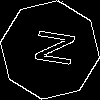N: (25, 25, 76, 68)
